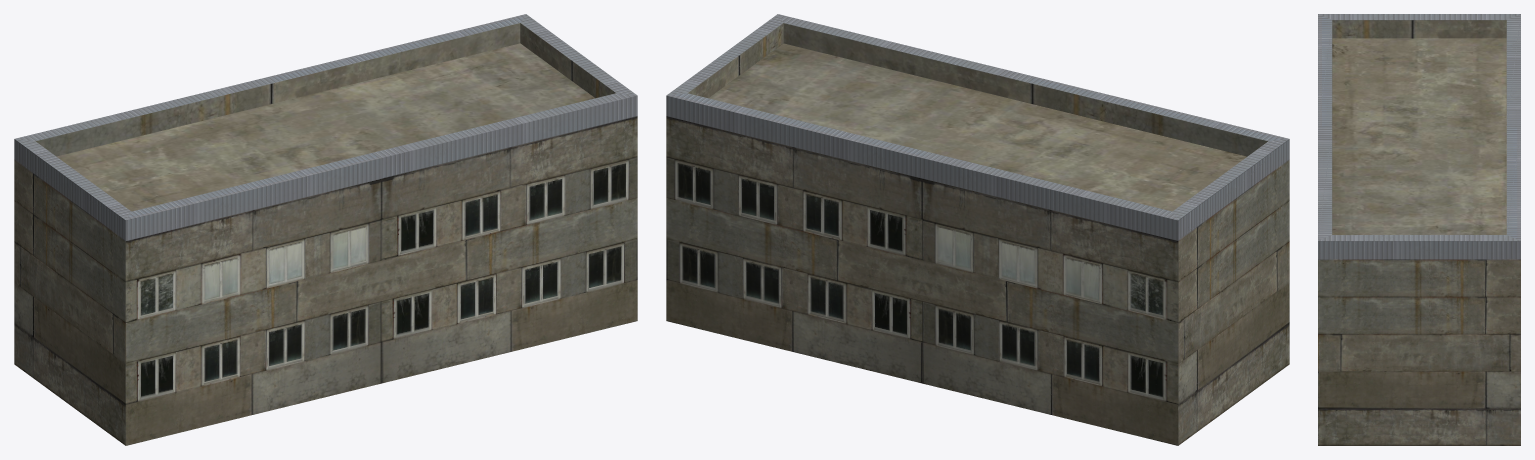
Rendered from EnergyStationBuild.fbx.
The picture shows the model from 3 angles, left to right: view 1: azimuth 30°, elevation 25°; view 2: azimuth 150°, elevation 25°; view 3: azimuth 270°, elevation 25°; orthographic projection. The views are drawn at different scales.
Parts seen in each view (by area): view 1: PlaneStatic; view 2: PlaneStatic; view 3: PlaneStatic.
Boxes of the visible parts, box(x1,y1,x2,y2) form: PlaneStatic: box(14, 14, 637, 445); PlaneStatic: box(666, 14, 1289, 445); PlaneStatic: box(1318, 14, 1520, 445).
Size of the model in its own units: 2640 by 1111 by 996.
1 material, 1 textured.
